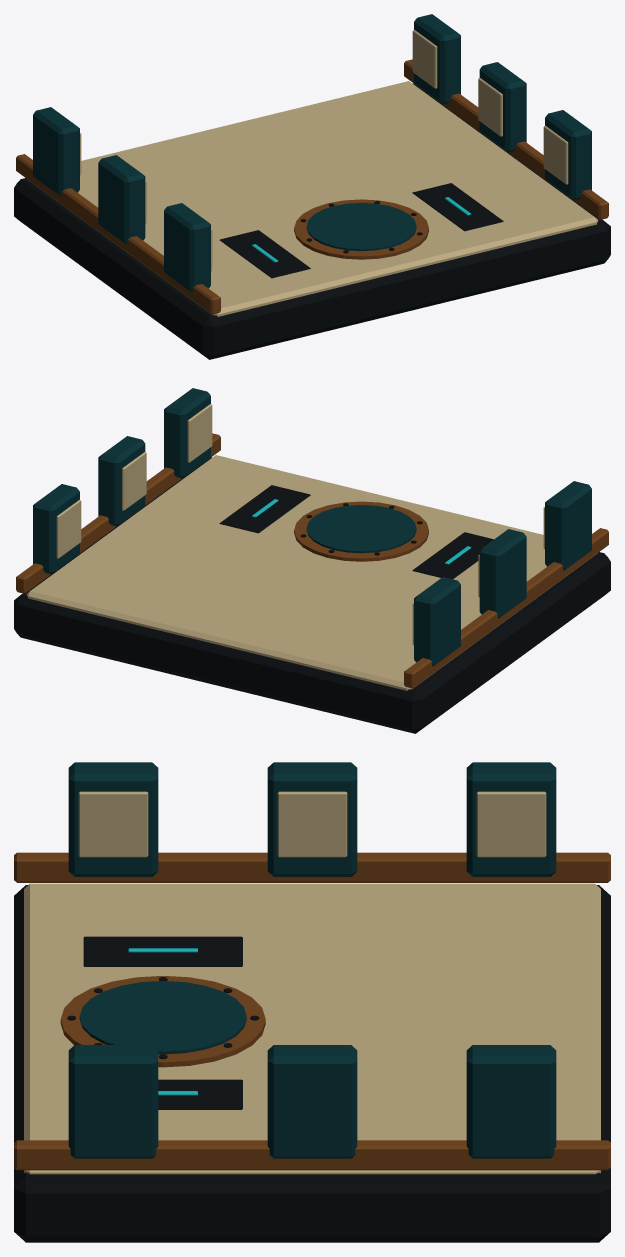
Rendered from siege-platform.glb.
3 views of the same model, one above another, from view 1: azimuth 30°, elevation 25°; view 2: azimuth 150°, elevation 25°; view 3: azimuth 270°, elevation 25° (orthographic). The views are drawn at different scales.
Parts seen in each view (by area): view 1: siege-platform; view 2: siege-platform; view 3: siege-platform.
Part boxes in pixels (box(x1,y1,x2,y2)): siege-platform: box(14, 14, 610, 359); siege-platform: box(14, 388, 610, 733); siege-platform: box(14, 762, 610, 1242).
Size of the model in its own units: 7.2 by 2.07 by 6.
1 material, 1 textured.
